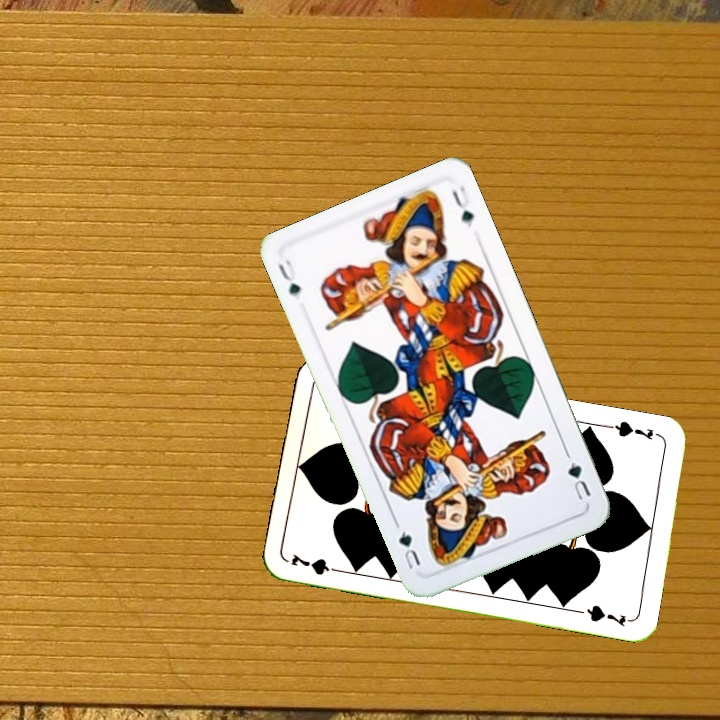G7: (287, 550, 345, 578), (604, 417, 656, 443)
GU: (562, 448, 594, 505), (273, 255, 304, 299)
